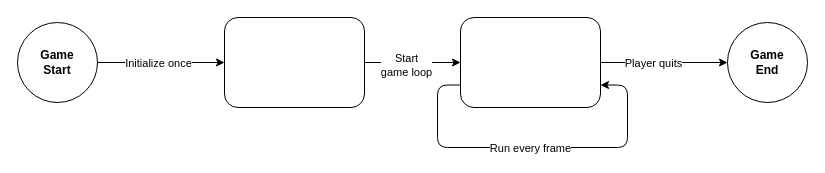
The diagram is 825 pixels wide and 173 high, and some of its shapes have lost their labels. The centre of each missing label's shape, as x and y in pixels:
"Setup System - Create entities - Load resources - Set initial state" goes at point 294,62.
"Update System - process input - update game logic - render frame - handle events" goes at point 530,62.
